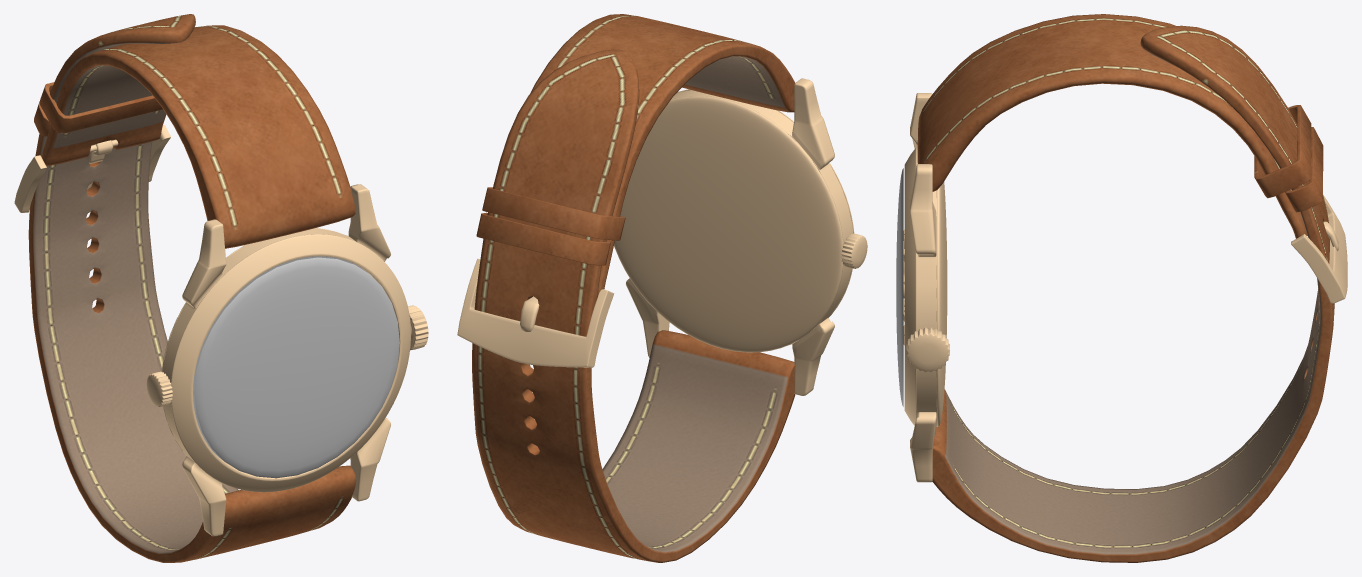
Rendered from Watch_Two-Crown Worldtime_002.fbx.
3 renders of one model, left to right at view 1: azimuth 30°, elevation 25°; view 2: azimuth 150°, elevation 25°; view 3: azimuth 270°, elevation 25°, orthographic.
Visible parts, largest first — view 1: watch, glass; view 2: watch; view 3: watch, glass.
Part boxes in pixels (box(x1,y1,x2,y2)): watch: box(14, 14, 428, 562); glass: box(194, 257, 399, 478); watch: box(457, 14, 867, 562); watch: box(903, 14, 1347, 562); glass: box(896, 168, 903, 406).
Bounding box in the file's own units: 0.0583 × 0.1021 × 0.0842.
2 materials, 1 textured.
